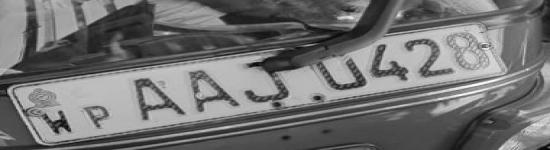0: (309, 50, 370, 91)
2: (404, 39, 457, 78)
4: (364, 44, 410, 84)
8: (443, 32, 493, 71)
A: (124, 77, 189, 122), (186, 69, 241, 115)
J: (234, 60, 292, 106)
P: (78, 104, 118, 133)
W: (41, 111, 79, 136)
